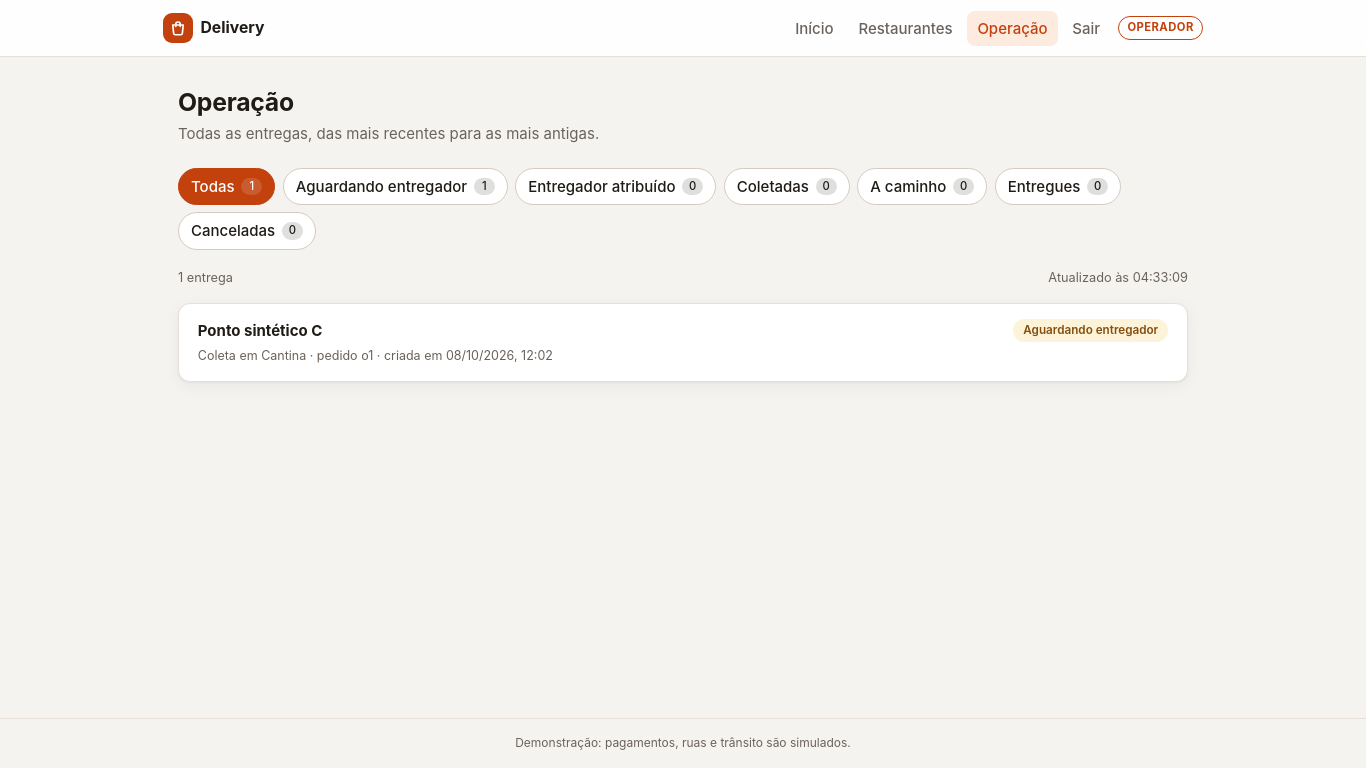
Test: operations console › lists the deliveries for the operator with counts and filters them by status
This screenshot has width=1366, height=768.
Expected: the button "Aguardando entregador 1" is shown, [283,168,508,205]
Click the button "Canceladas 0" at x=247, y=231, box [178,212,316,250]
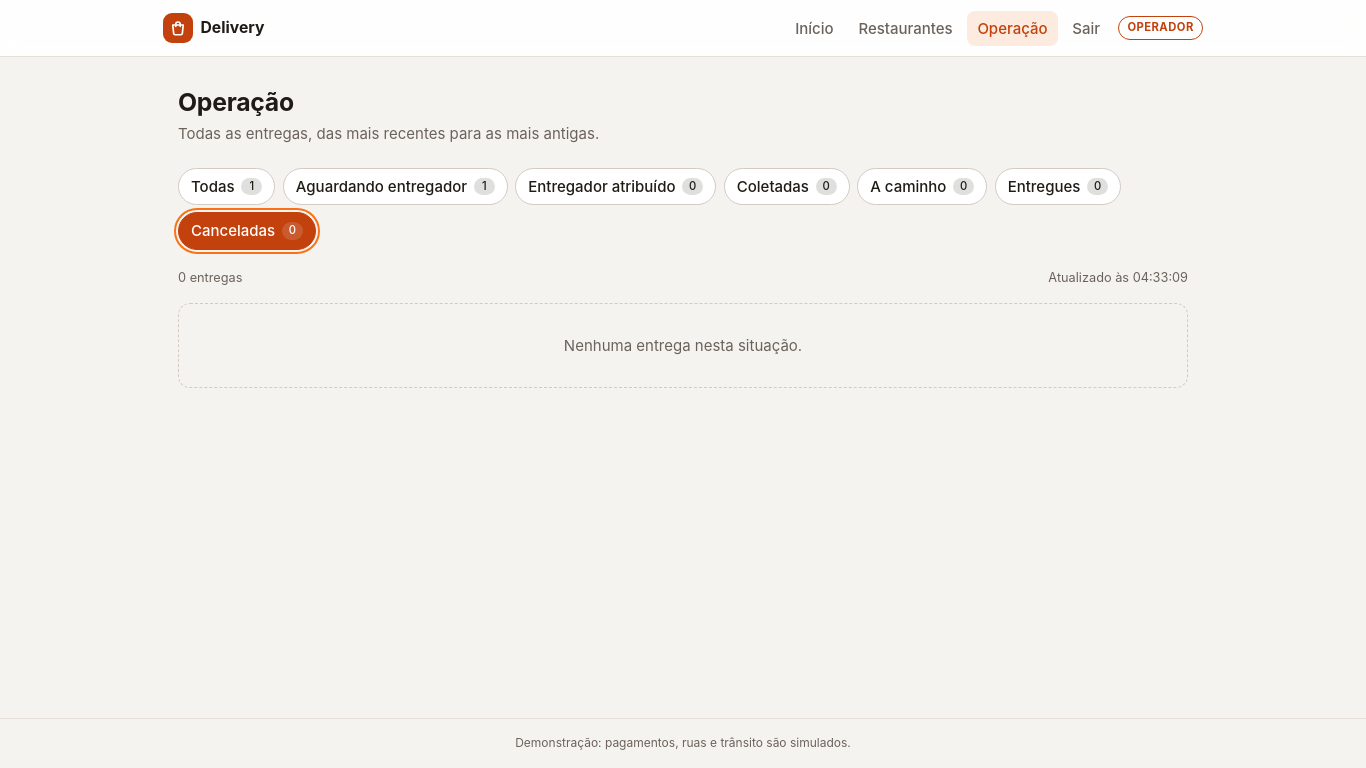
Expected: the link "Operação" is shown, [967,10,1058,46]
Expected: the text "Nenhuma entrega nesta situação." is shown, [178,303,1188,388]
